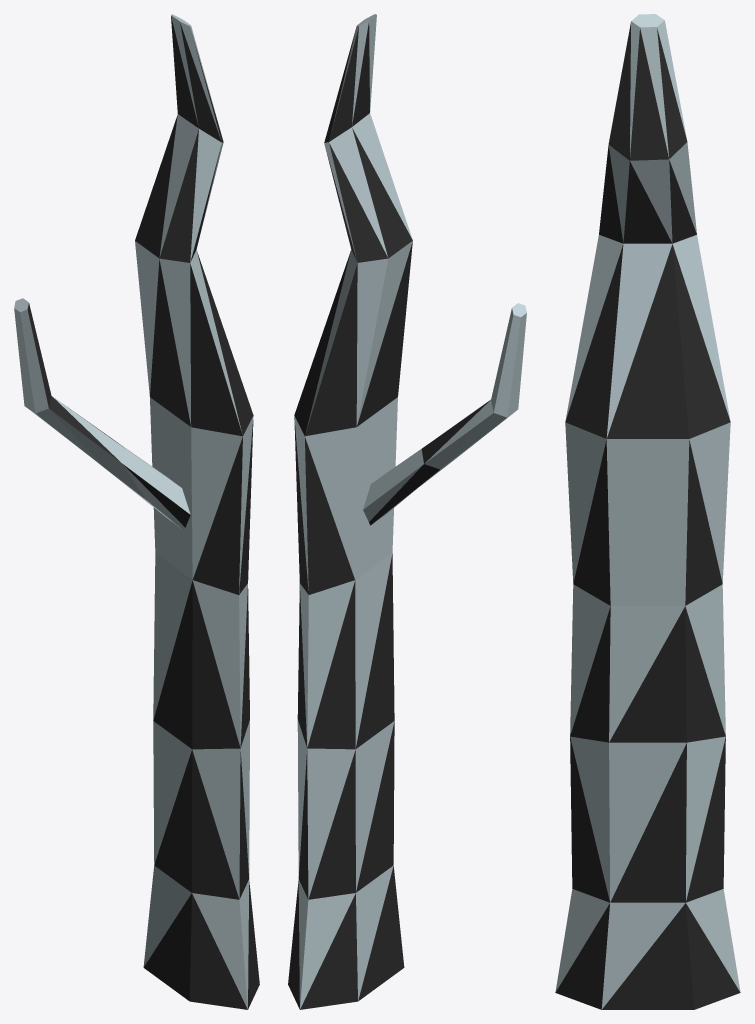
Rendered from BirchSmallDead.fbx.
3 renders of one model, left to right at view 1: azimuth 30°, elevation 25°; view 2: azimuth 150°, elevation 25°; view 3: azimuth 270°, elevation 25°, orthographic.
Parts seen in each view (by area): view 1: Birch.001; view 2: Birch.001; view 3: Birch.001.
Part boxes in pixels (x1=…): Birch.001: x1=14, y1=14, x2=259, y2=1009; Birch.001: x1=288, y1=14, x2=526, y2=1009; Birch.001: x1=555, y1=14, x2=740, y2=1009.
Bounding box in the file's own units: 0.1856 × 0.7912 × 0.1375.
